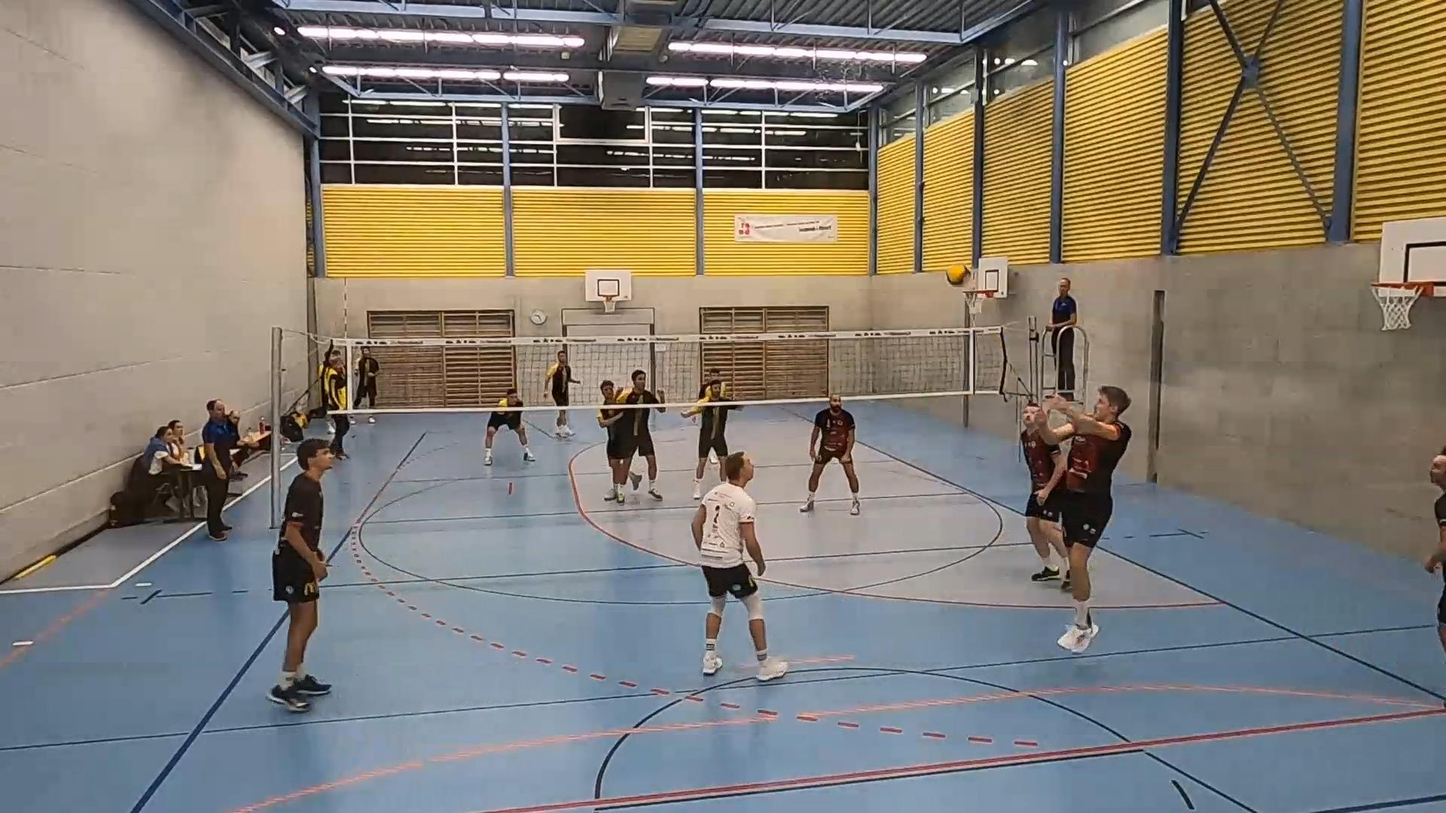ricezione: (1025, 396, 1147, 647)
